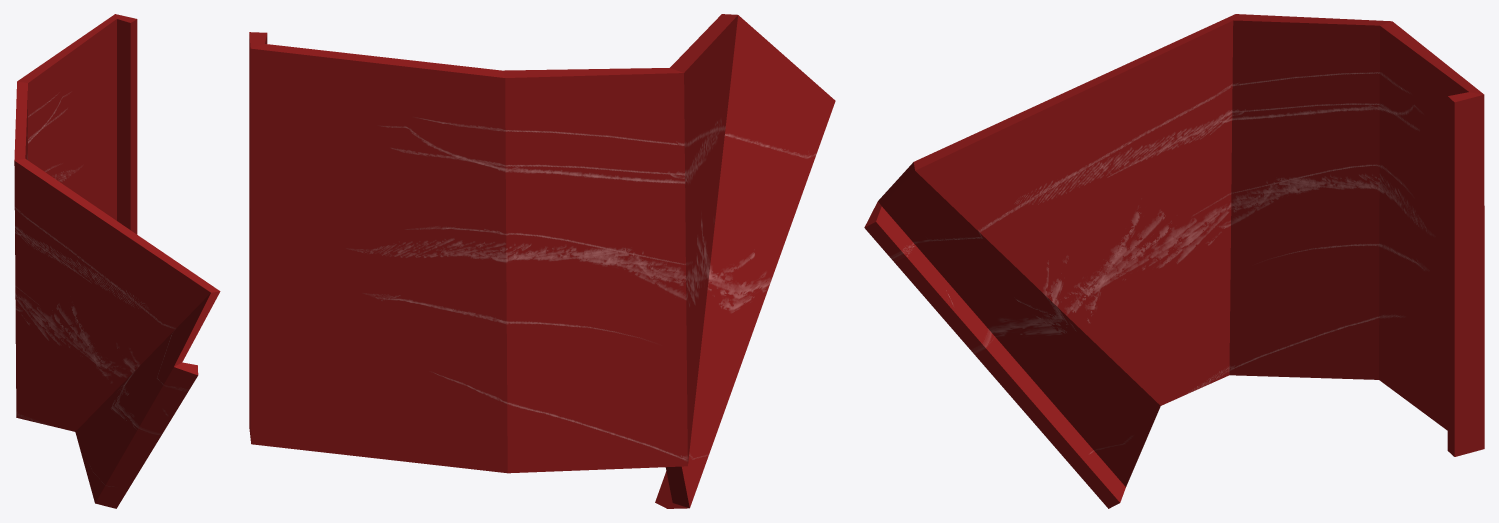
Rendered from Lataria1.fbx.
The picture shows the model from 3 angles, left to right: view 1: azimuth 30°, elevation 25°; view 2: azimuth 150°, elevation 25°; view 3: azimuth 270°, elevation 25°; orthographic projection. The views are drawn at different scales.
Visible parts, largest first — view 1: Plano.001; view 2: Plano.001; view 3: Plano.001.
Part boxes in pixels (<box>): Plano.001: <box>14,14,220,508</box>; Plano.001: <box>249,14,835,508</box>; Plano.001: <box>864,14,1484,508</box>.
Size of the model in its own units: 52.63 by 90.45 by 101.
